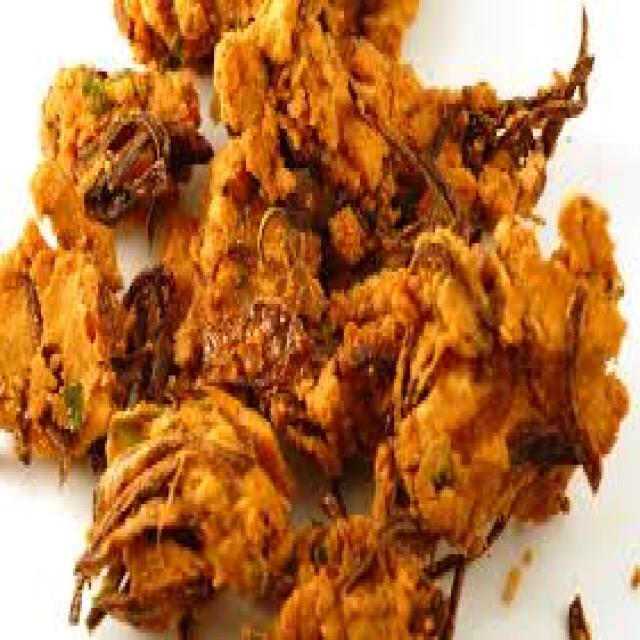BAJI: (0, 0, 625, 636)
